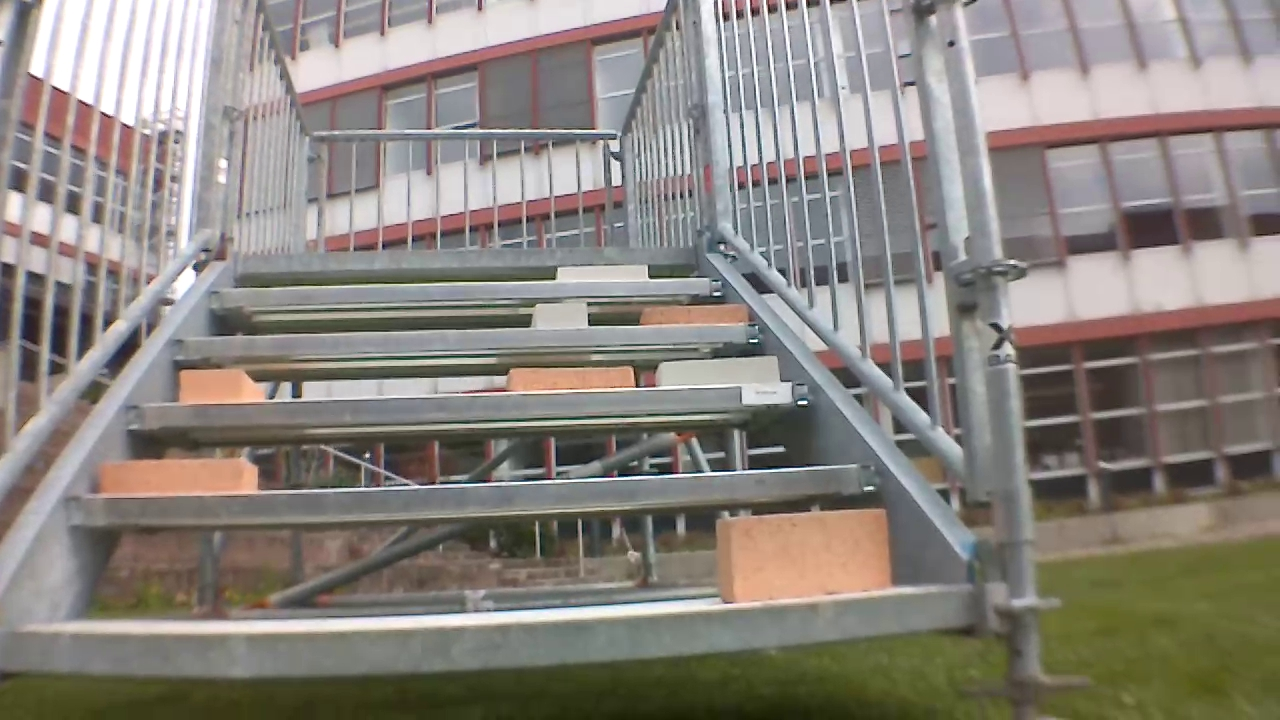brick: (715, 503, 898, 603), (88, 462, 258, 495), (506, 365, 639, 394), (658, 357, 778, 387), (180, 366, 263, 402), (641, 303, 748, 326), (553, 262, 647, 287), (537, 304, 583, 325)
edge: (0, 580, 979, 686), (65, 464, 890, 525), (130, 379, 814, 432), (173, 324, 766, 360), (204, 277, 722, 310), (231, 247, 713, 264)
stairs: (0, 0, 1053, 707)
steps: (0, 242, 982, 708)
